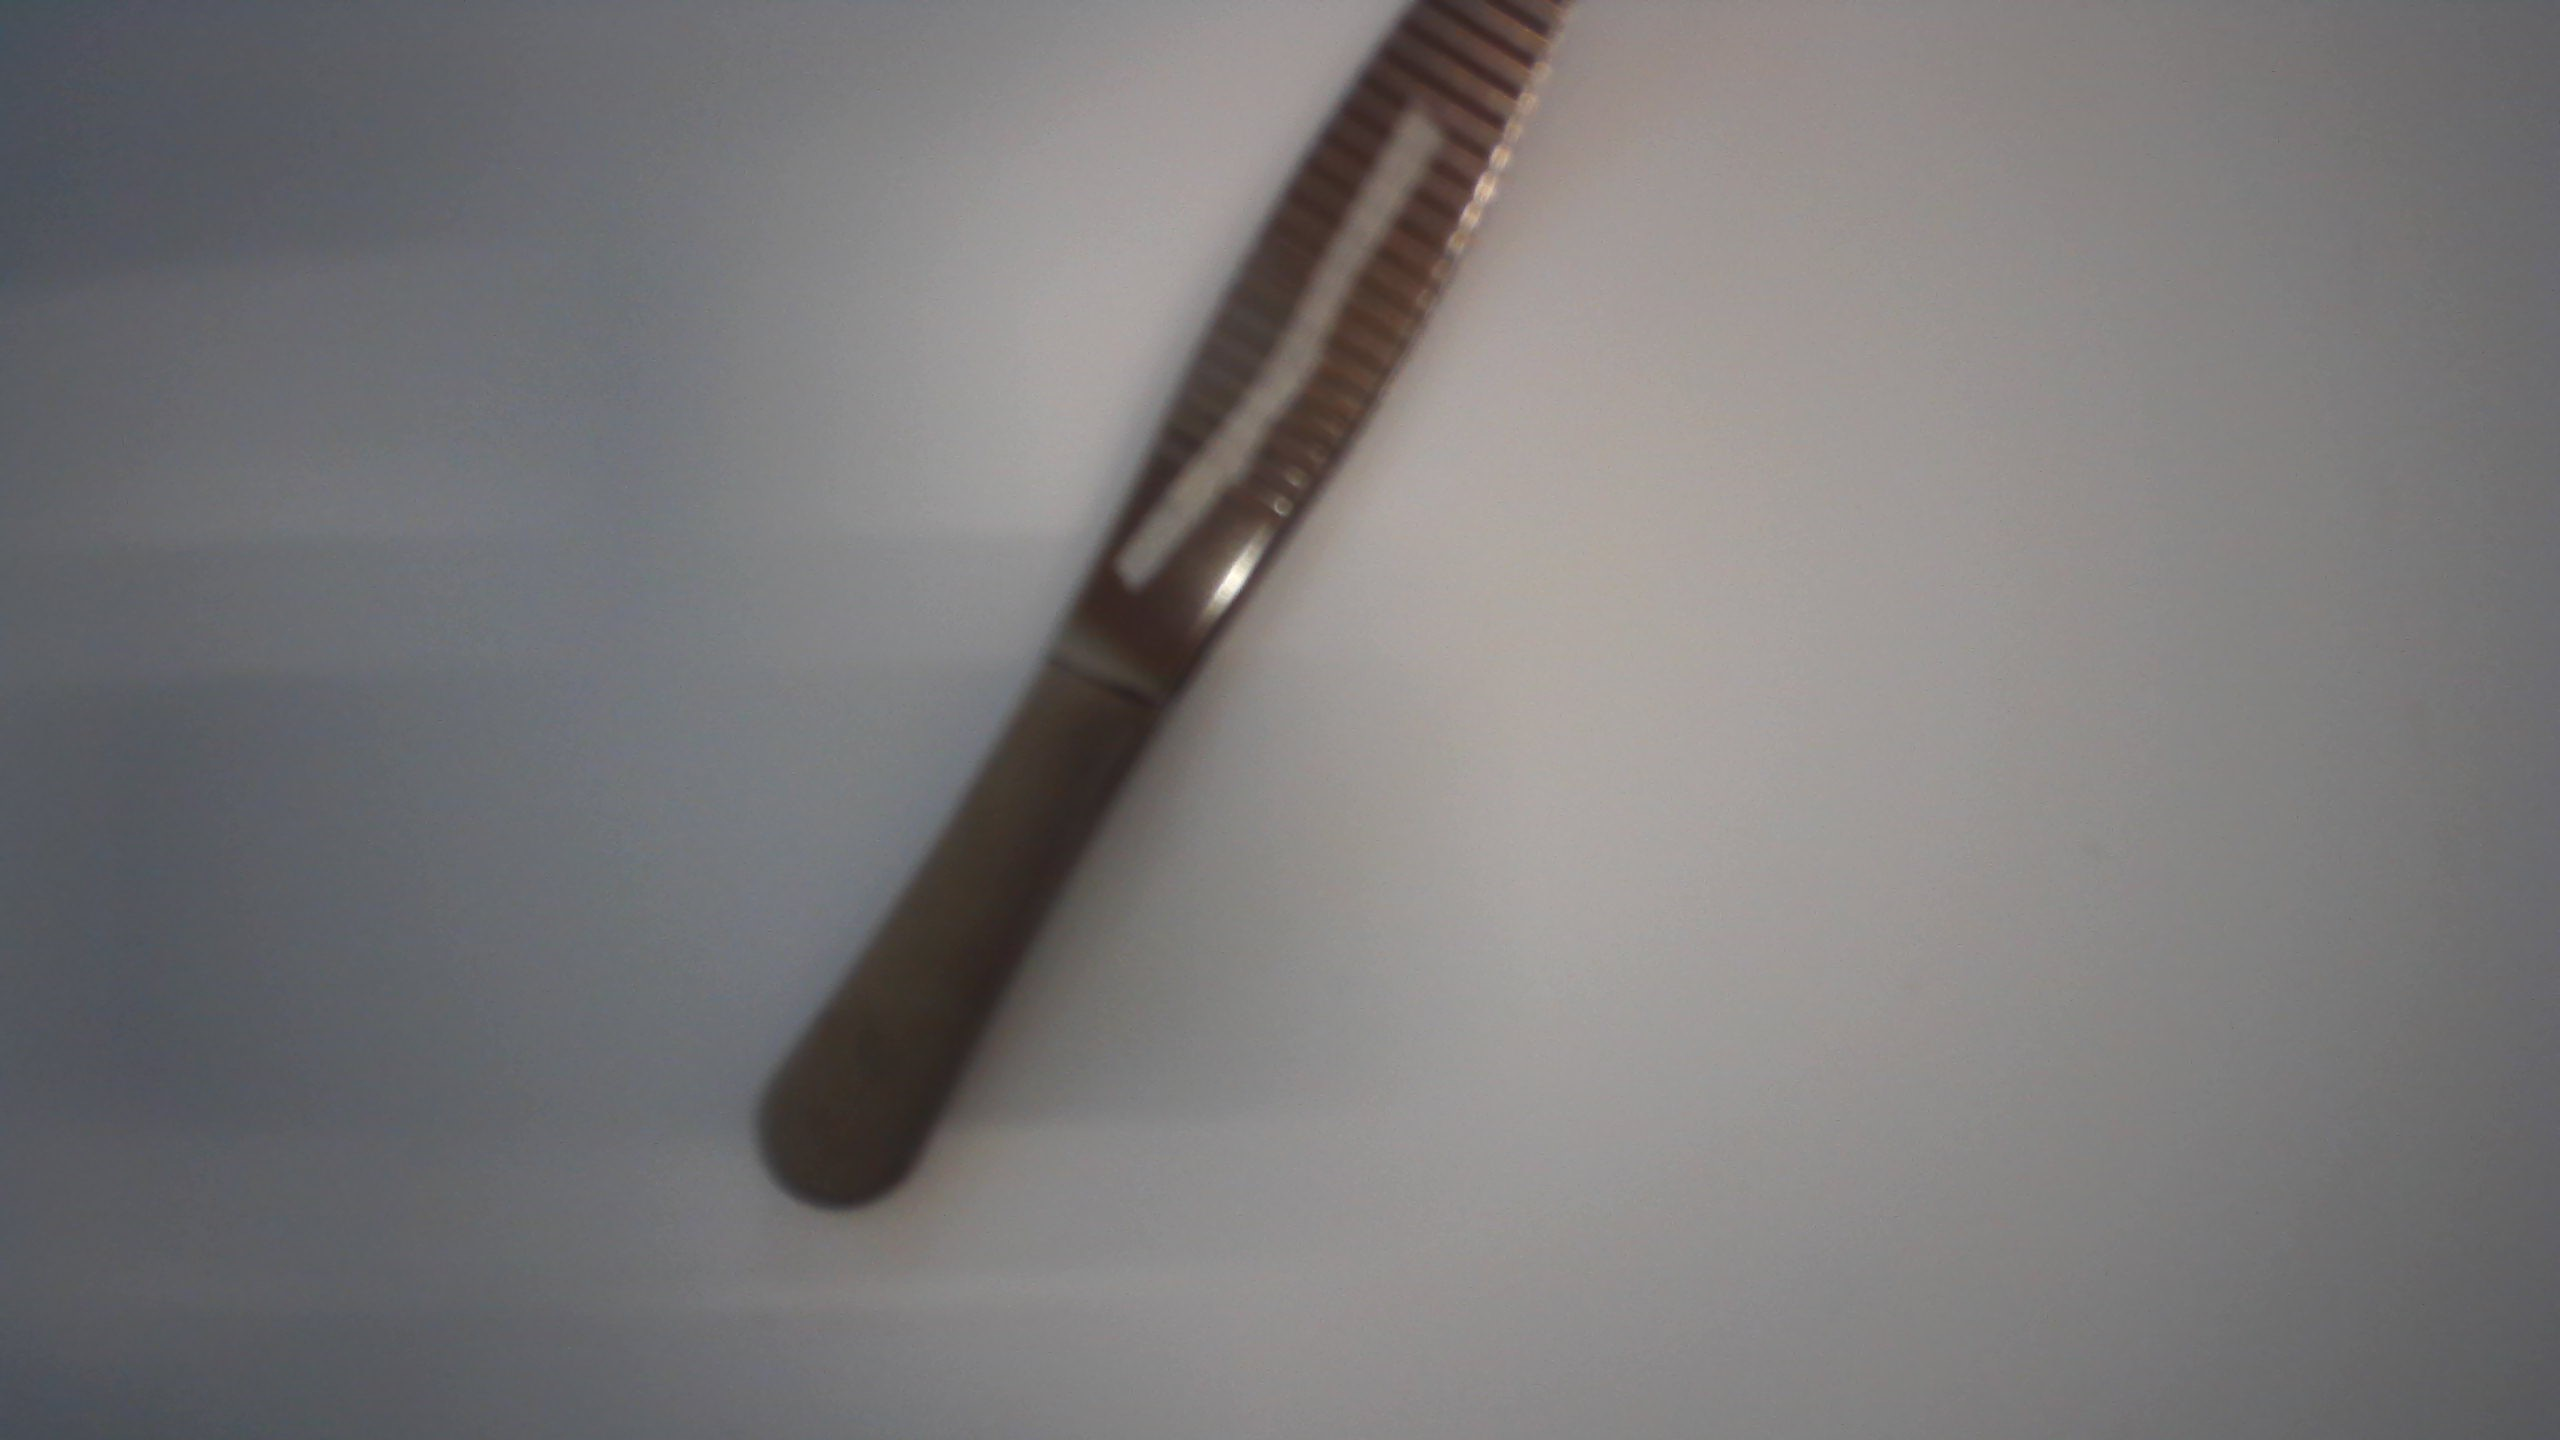Scratches: (1092, 98, 1479, 603)
